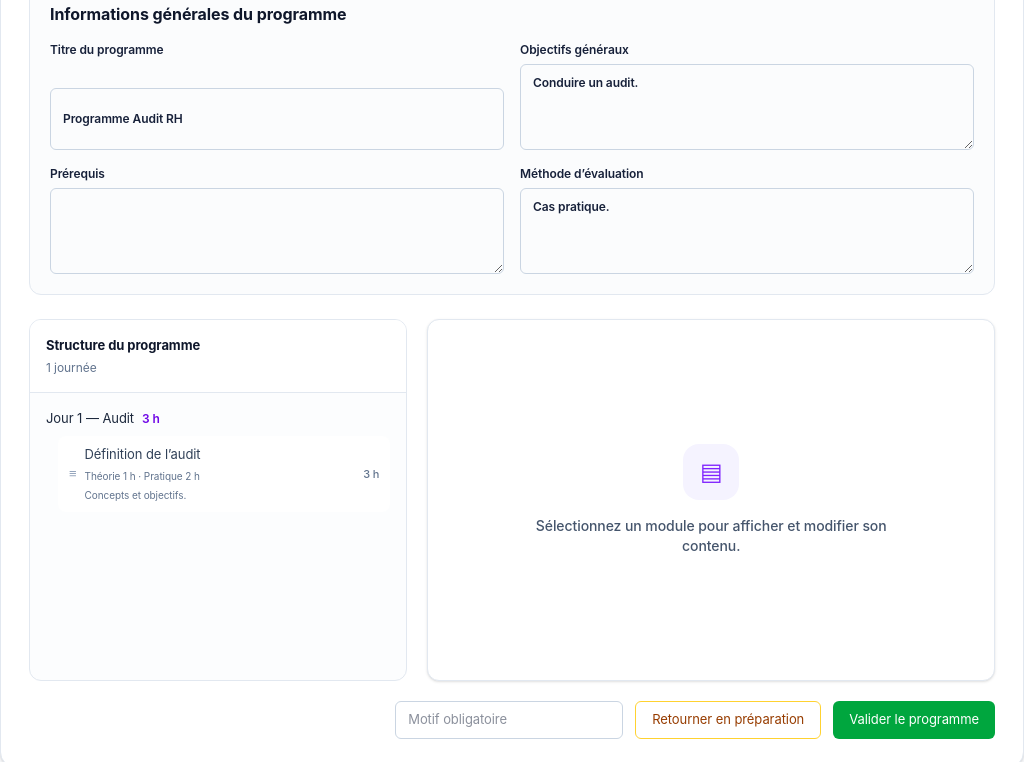
Programme de formation › rend un programme soumis non modifiable et exige un motif de retour
(page scrolled)
Expected: the button "Ajouter une journée" is not shown
Expected: the button "Retourner en préparation" is disabled, [635, 701, 821, 738]
Type "Ajouter un exemple." into the field named "Motif du retour".
click(509, 720); type("Ajouter un exemple.")  # box [395, 701, 623, 738]
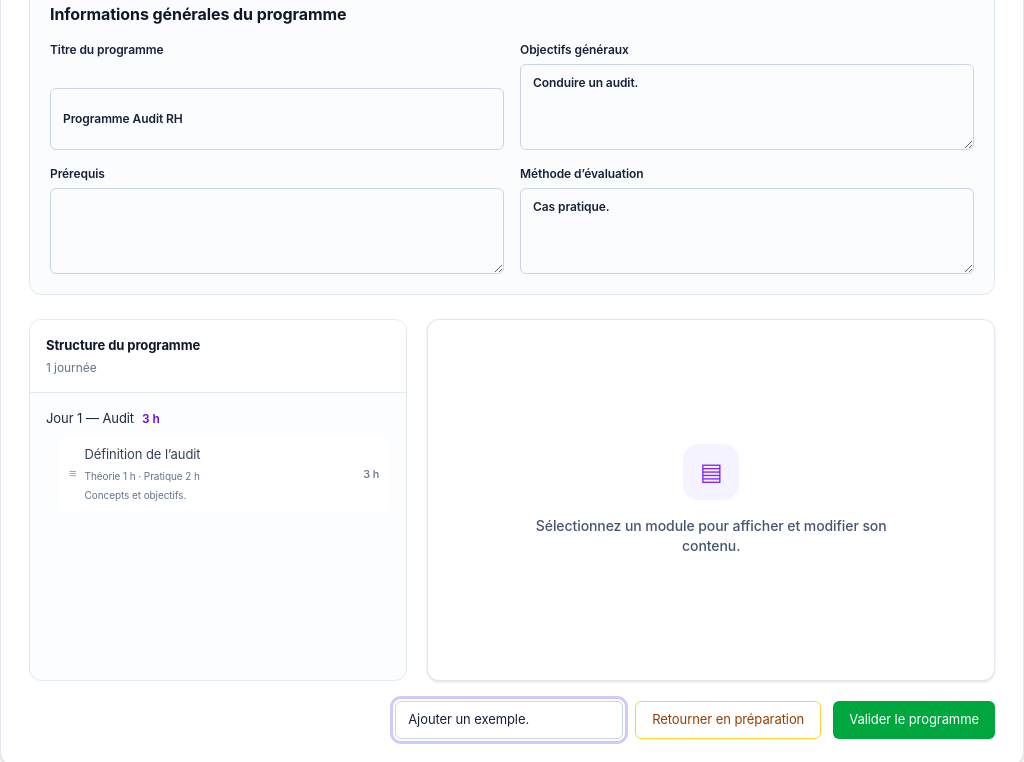
Click the button "Retourner en préparation".
click(728, 720)  # box [635, 701, 821, 738]
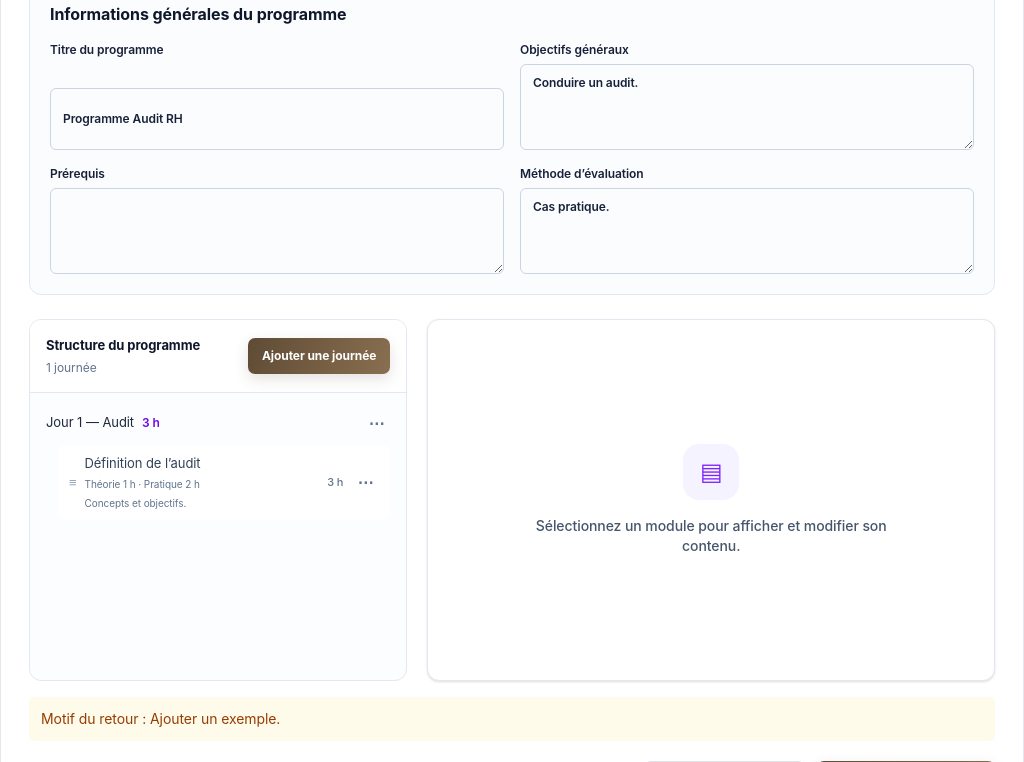
Expected: the text "Motif du retour : Ajouter un exemple." is shown, [29, 697, 995, 741]
